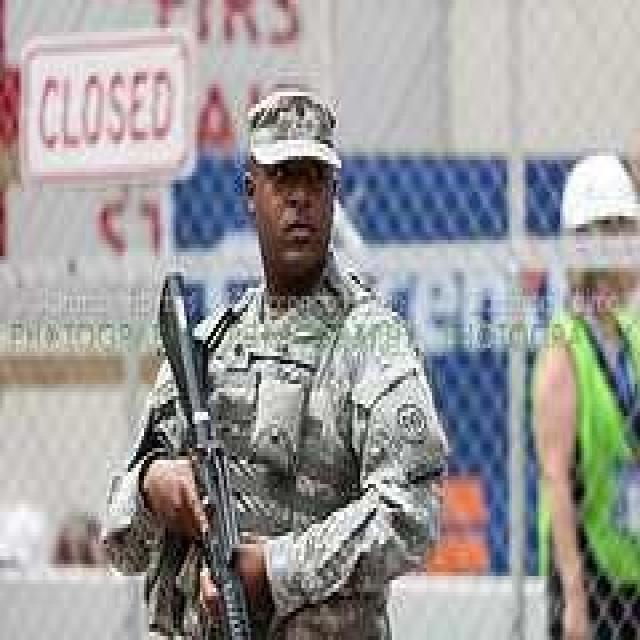Rifle: (146, 260, 261, 640)
